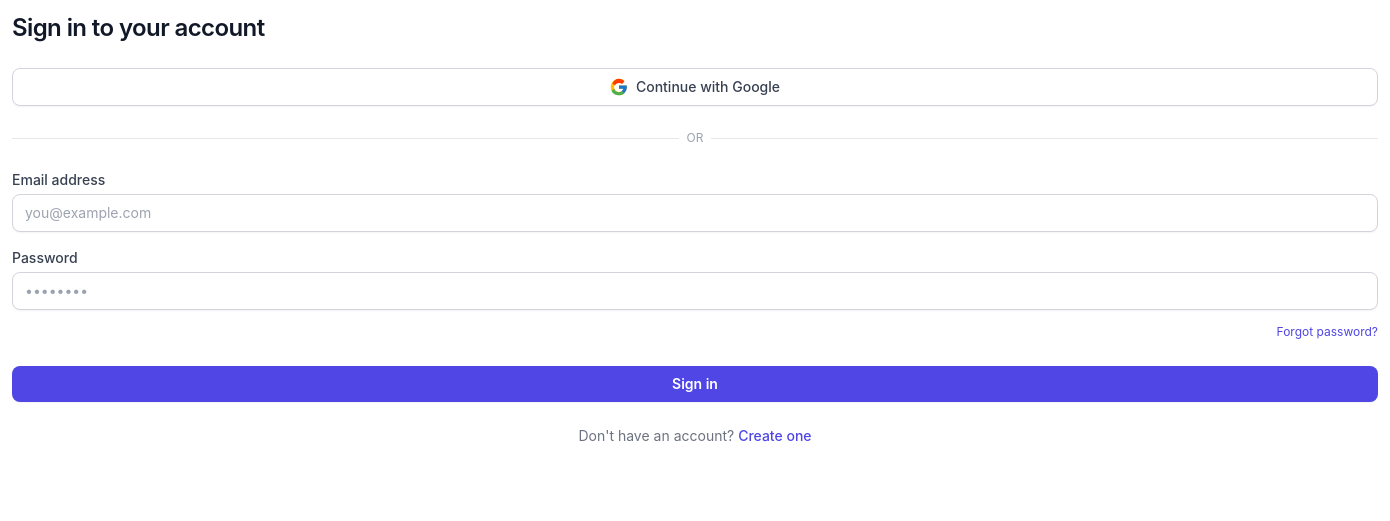
Test case: LoginPage › shows error message on login failure
Type "test@example.com" into the field labelled "Email address". click: [695, 213]
box: [12,194,1378,232]
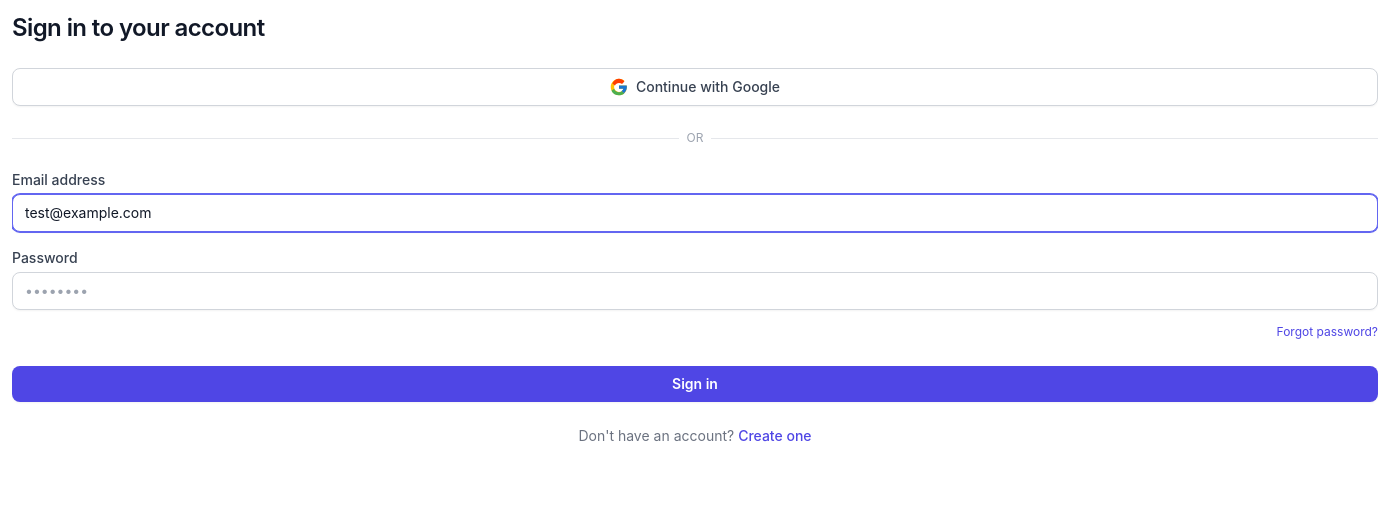
Type "wrong" into the password field labelled "Password". click: [695, 291]
box: [12,272,1378,310]
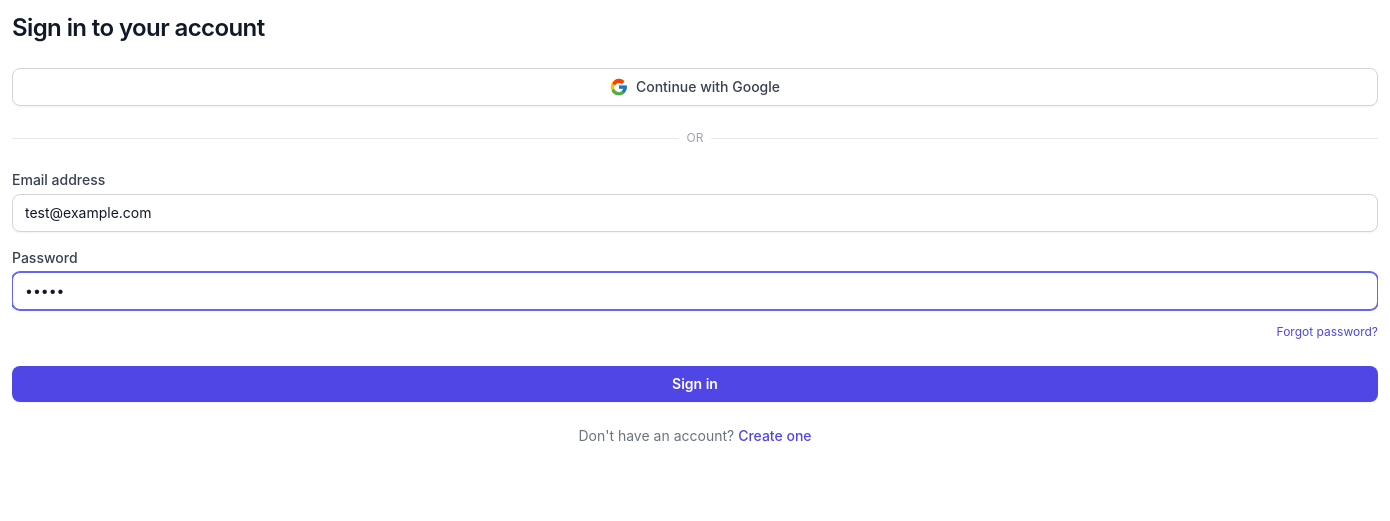
Click the button "Sign in". click: [695, 384]
box: [12,366,1378,402]
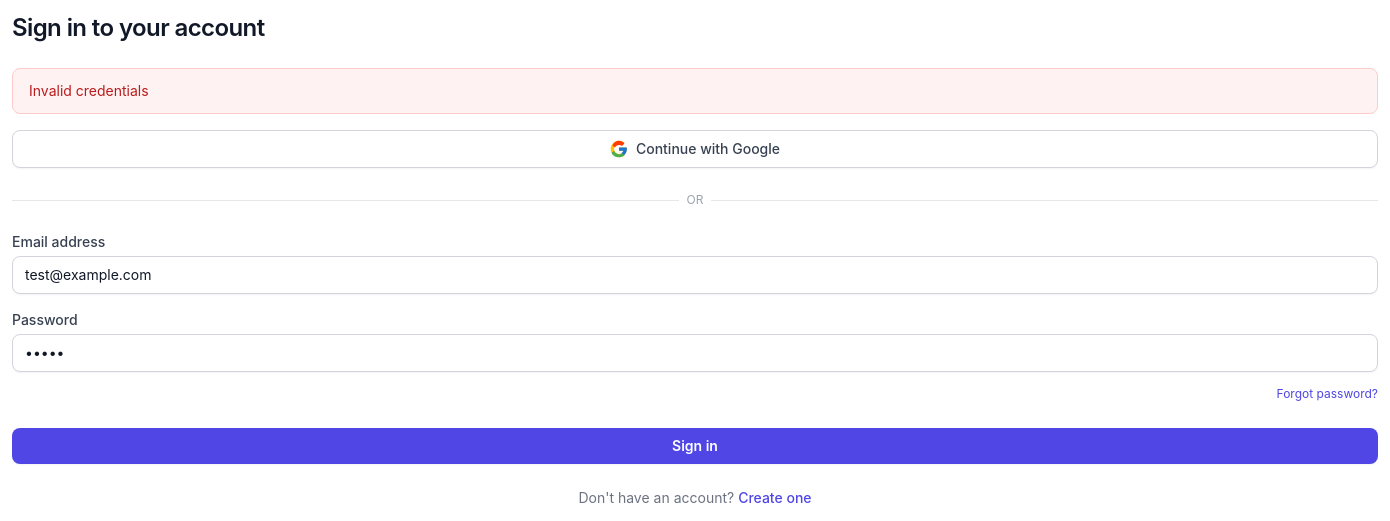
Check: the message reads "Invalid credentials", box [29,82,149,99]
